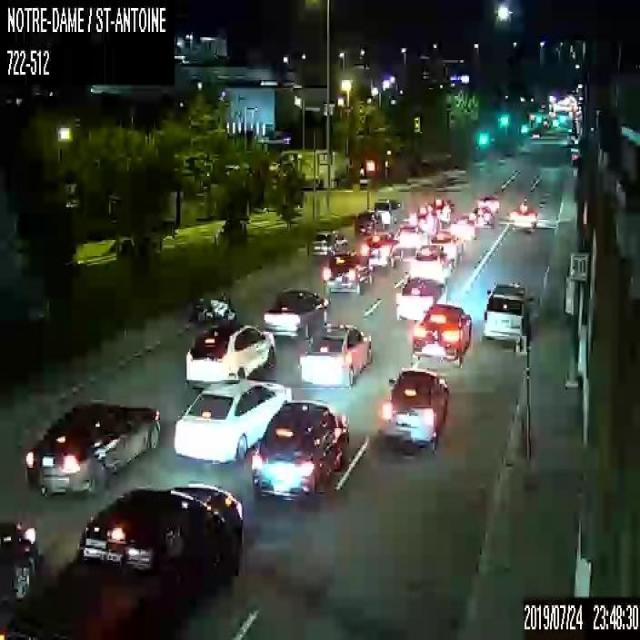vehicle: (73, 481, 246, 608), (22, 400, 159, 493), (174, 377, 292, 461), (251, 398, 348, 499), (186, 324, 277, 386), (381, 367, 450, 445), (300, 324, 371, 386), (412, 302, 472, 368), (263, 286, 332, 340), (0, 518, 35, 612), (482, 280, 530, 344), (322, 248, 374, 291), (398, 274, 448, 318), (191, 290, 237, 322), (359, 232, 398, 268), (410, 244, 447, 278), (428, 231, 464, 264), (310, 229, 348, 257), (508, 201, 538, 231), (395, 224, 426, 250), (374, 198, 401, 227), (450, 212, 480, 237), (413, 206, 438, 230), (354, 210, 379, 233), (472, 204, 494, 228), (481, 195, 498, 212)
